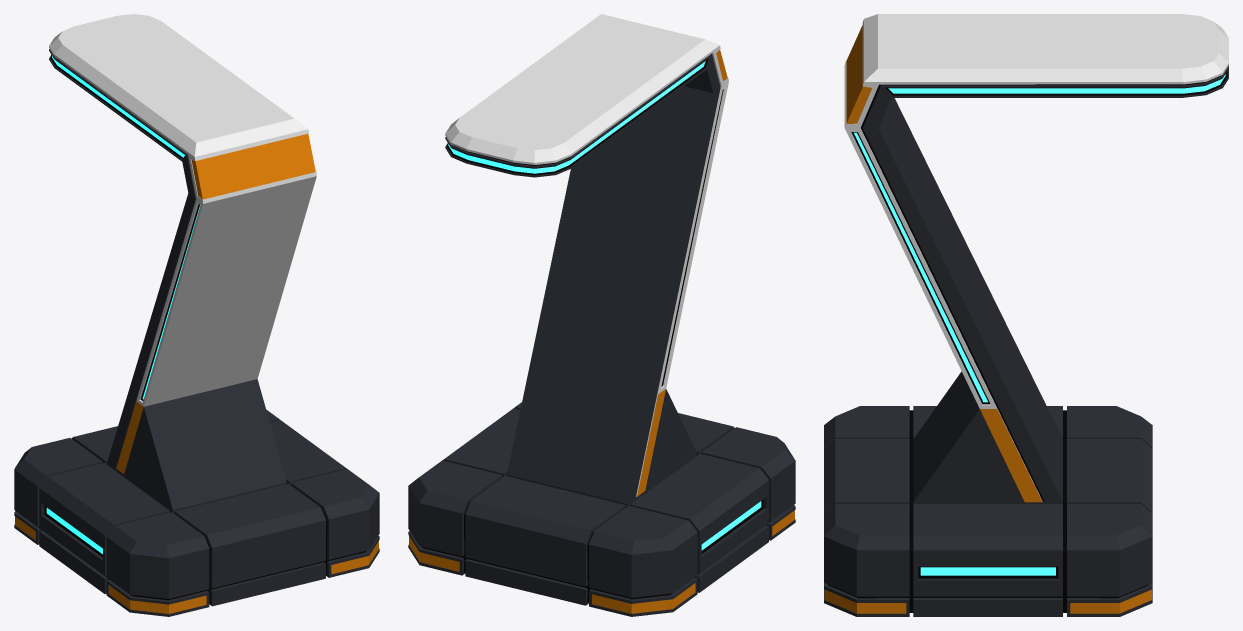
File: SM_Bedside_Lamp.fbx
3 renders of one model, left to right at view 1: azimuth 30°, elevation 25°; view 2: azimuth 150°, elevation 25°; view 3: azimuth 270°, elevation 25°, orthographic. The views are drawn at different scales.
Visible parts, largest first — view 1: SM_Bedside_Lamp; view 2: SM_Bedside_Lamp; view 3: SM_Bedside_Lamp.
Boxes of the visible parts, x1=… form: SM_Bedside_Lamp: x1=14, y1=14, x2=379, y2=616; SM_Bedside_Lamp: x1=408, y1=14, x2=795, y2=616; SM_Bedside_Lamp: x1=824, y1=14, x2=1228, y2=616.
Bounding box in the file's own units: 15 × 25.5 × 18.49.
